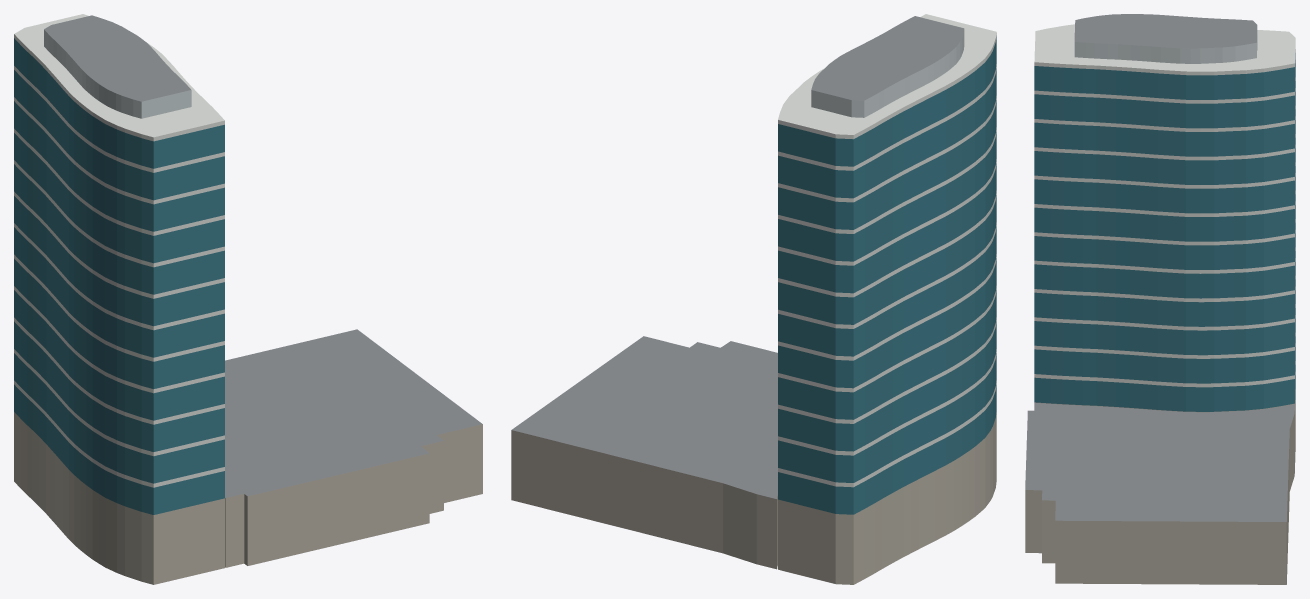
File: panorama_tower_ii_w495545510.glb
The picture shows the model from 3 angles, left to right: view 1: azimuth 30°, elevation 25°; view 2: azimuth 150°, elevation 25°; view 3: azimuth 270°, elevation 25°; orthographic projection. The views are drawn at different scales.
Visible parts, largest first — view 1: Tower; view 2: Tower; view 3: Tower.
Boxes of the visible parts, x1=… form: Tower: x1=14, y1=14, x2=482, y2=584; Tower: x1=511, y1=14, x2=996, y2=584; Tower: x1=1025, y1=14, x2=1295, y2=584.
Size of the model in its own units: 102 by 125 by 73.33.
